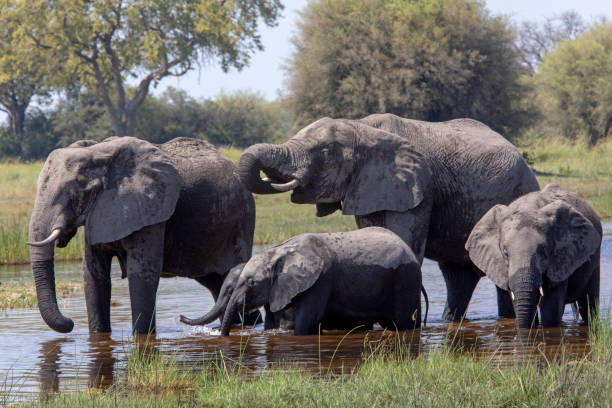africanelephant: (220, 114, 401, 230), (6, 140, 136, 301)
